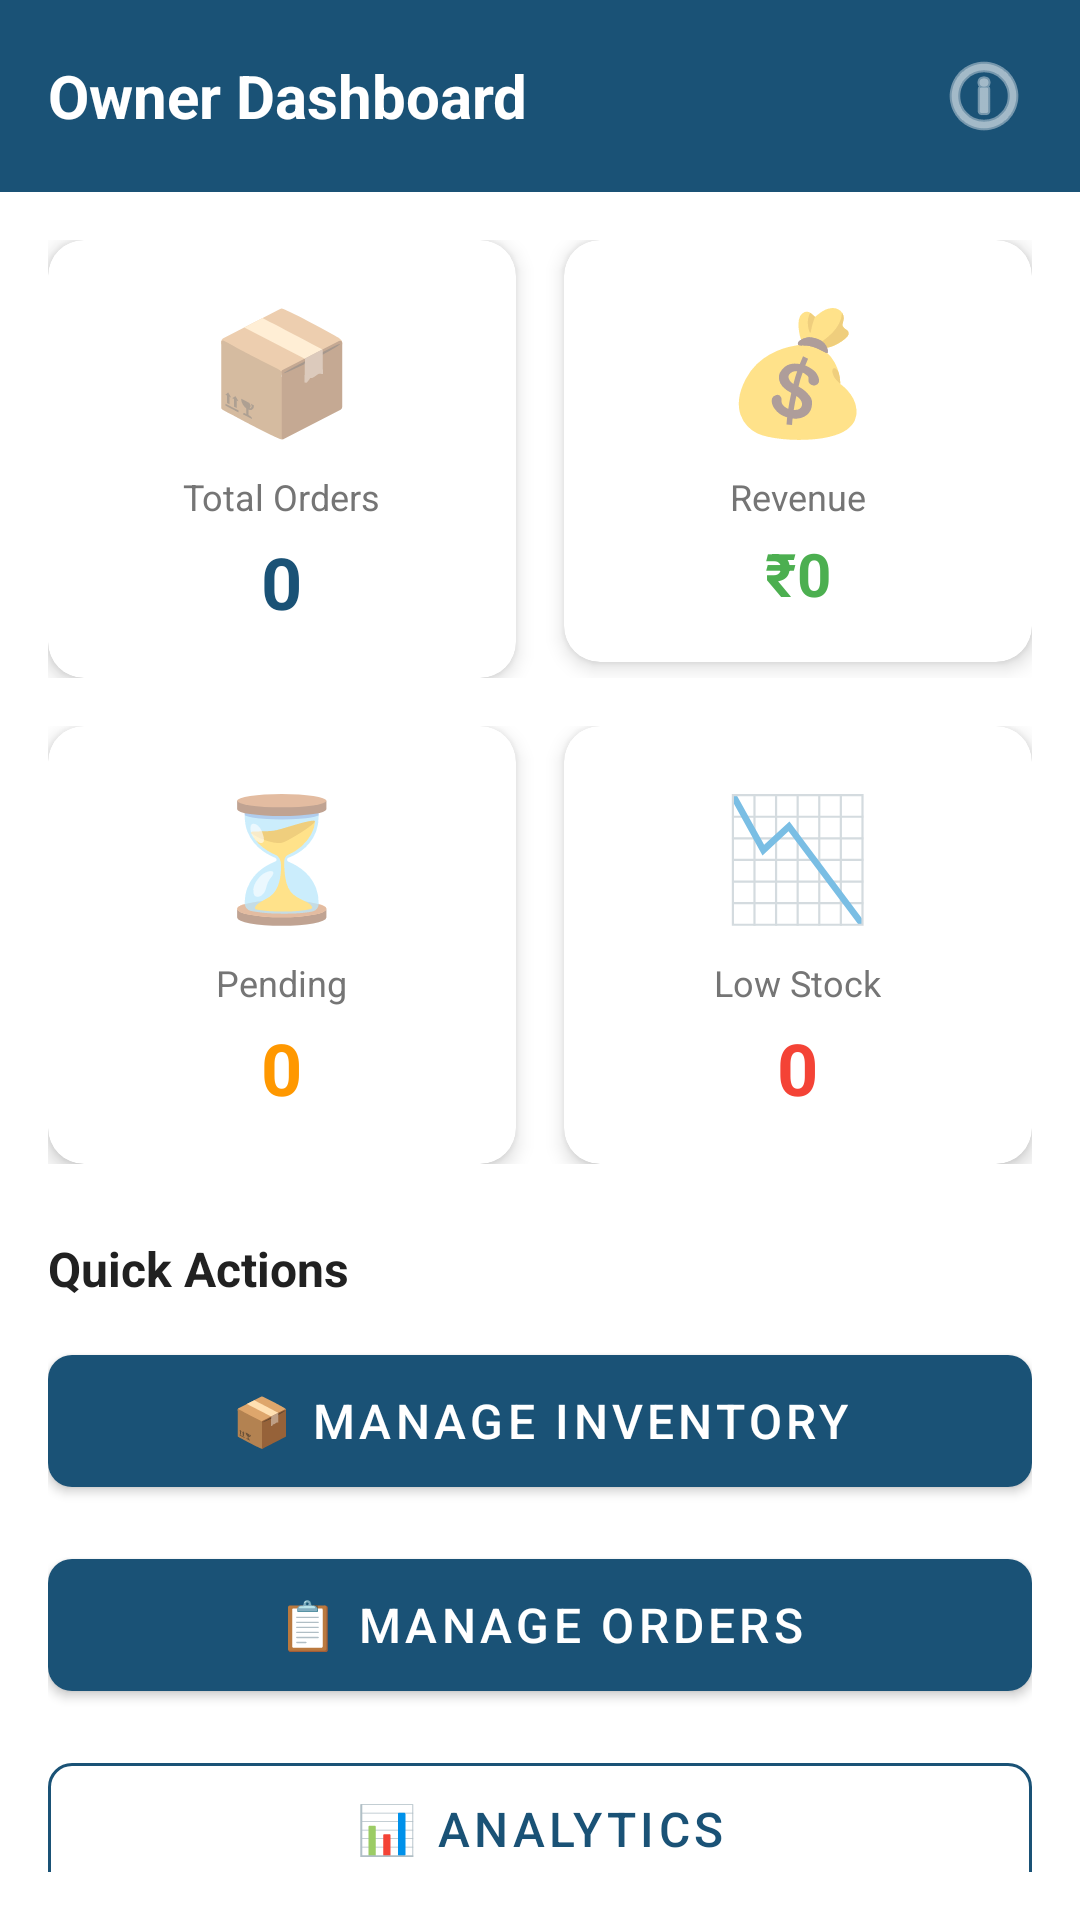

Icon click points for this 1080px×1920px phone screenshot, format [x,y]:
Info: [984,96]
